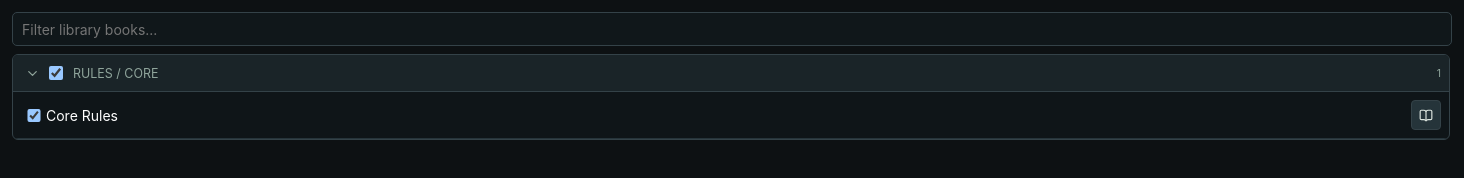
reports missing active source set before attempting checkbox writes
Click the checkbox labelled "Core Rules" at (34, 115), box [25, 108, 43, 122]
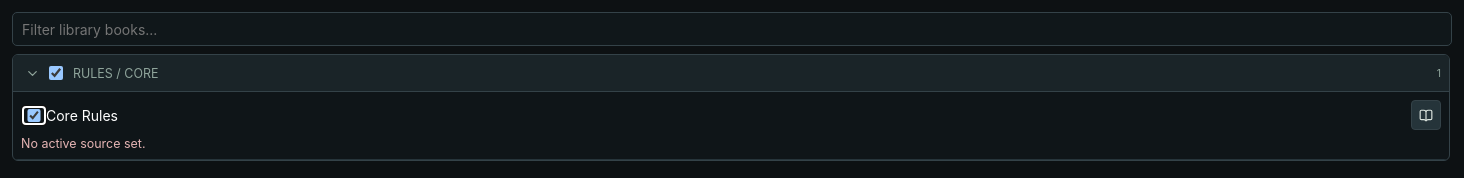
Now the text "No active source set." is shown, box [21, 136, 146, 151]
